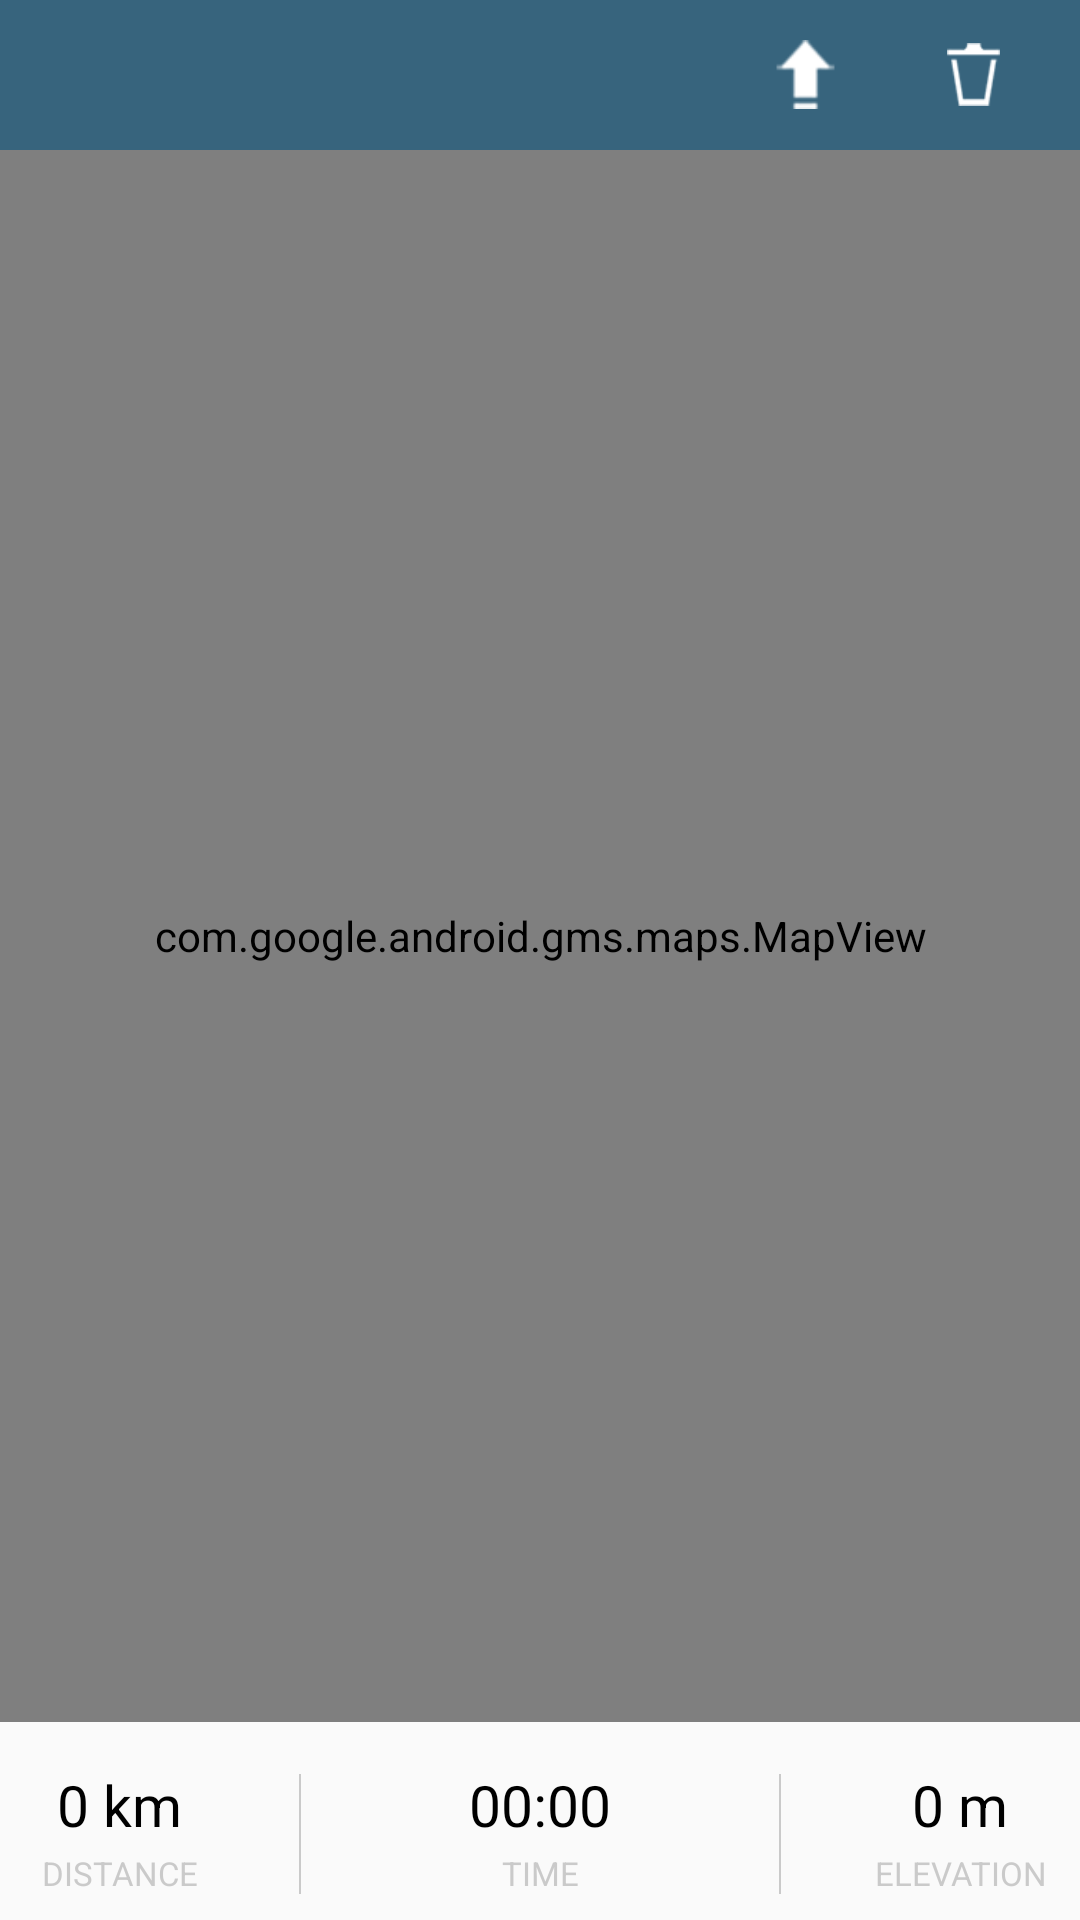

Screen size 1080*1920. Icon name, then its center in pixels as point (x, y):
trash: point (973, 74)
upload: point (805, 74)
